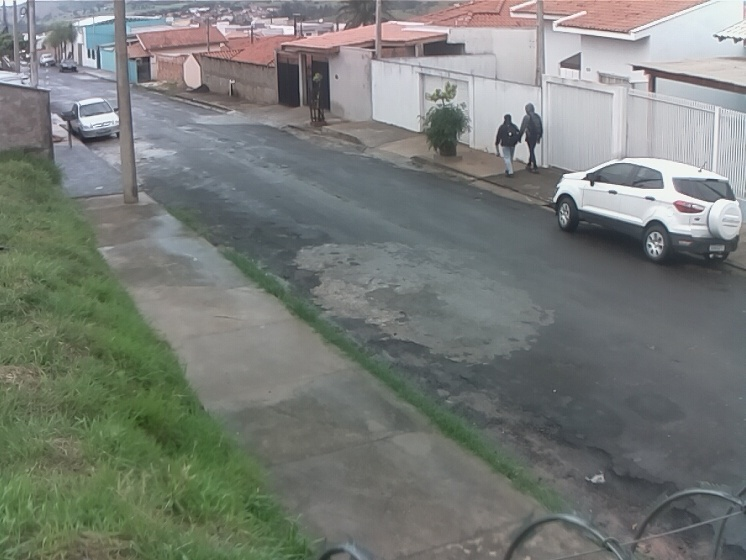person: (515, 101, 544, 175), (494, 113, 521, 180)
